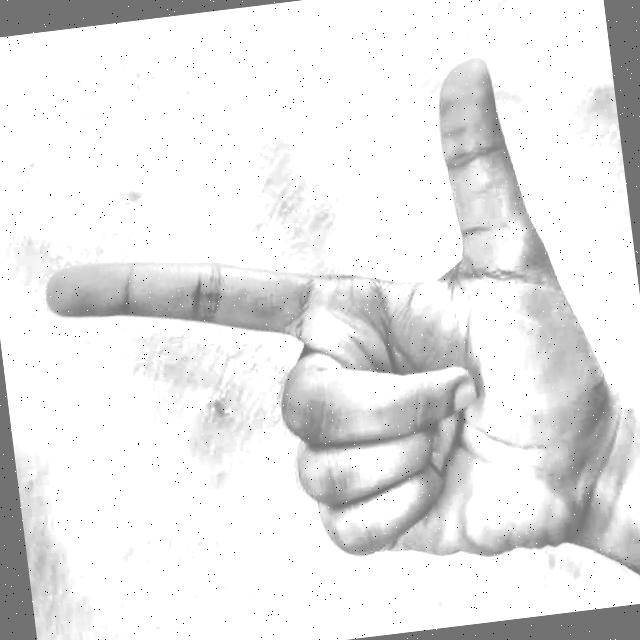Tha: (0, 19, 630, 629)
